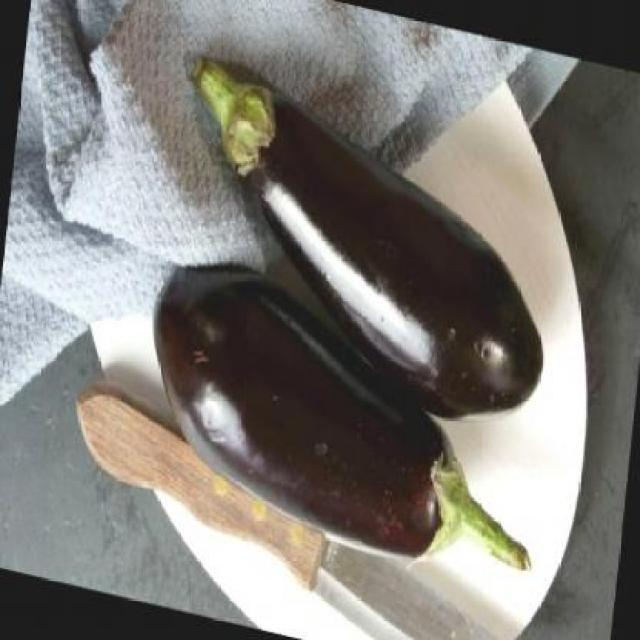eggplant: (151, 46, 567, 440), (134, 243, 556, 586)
